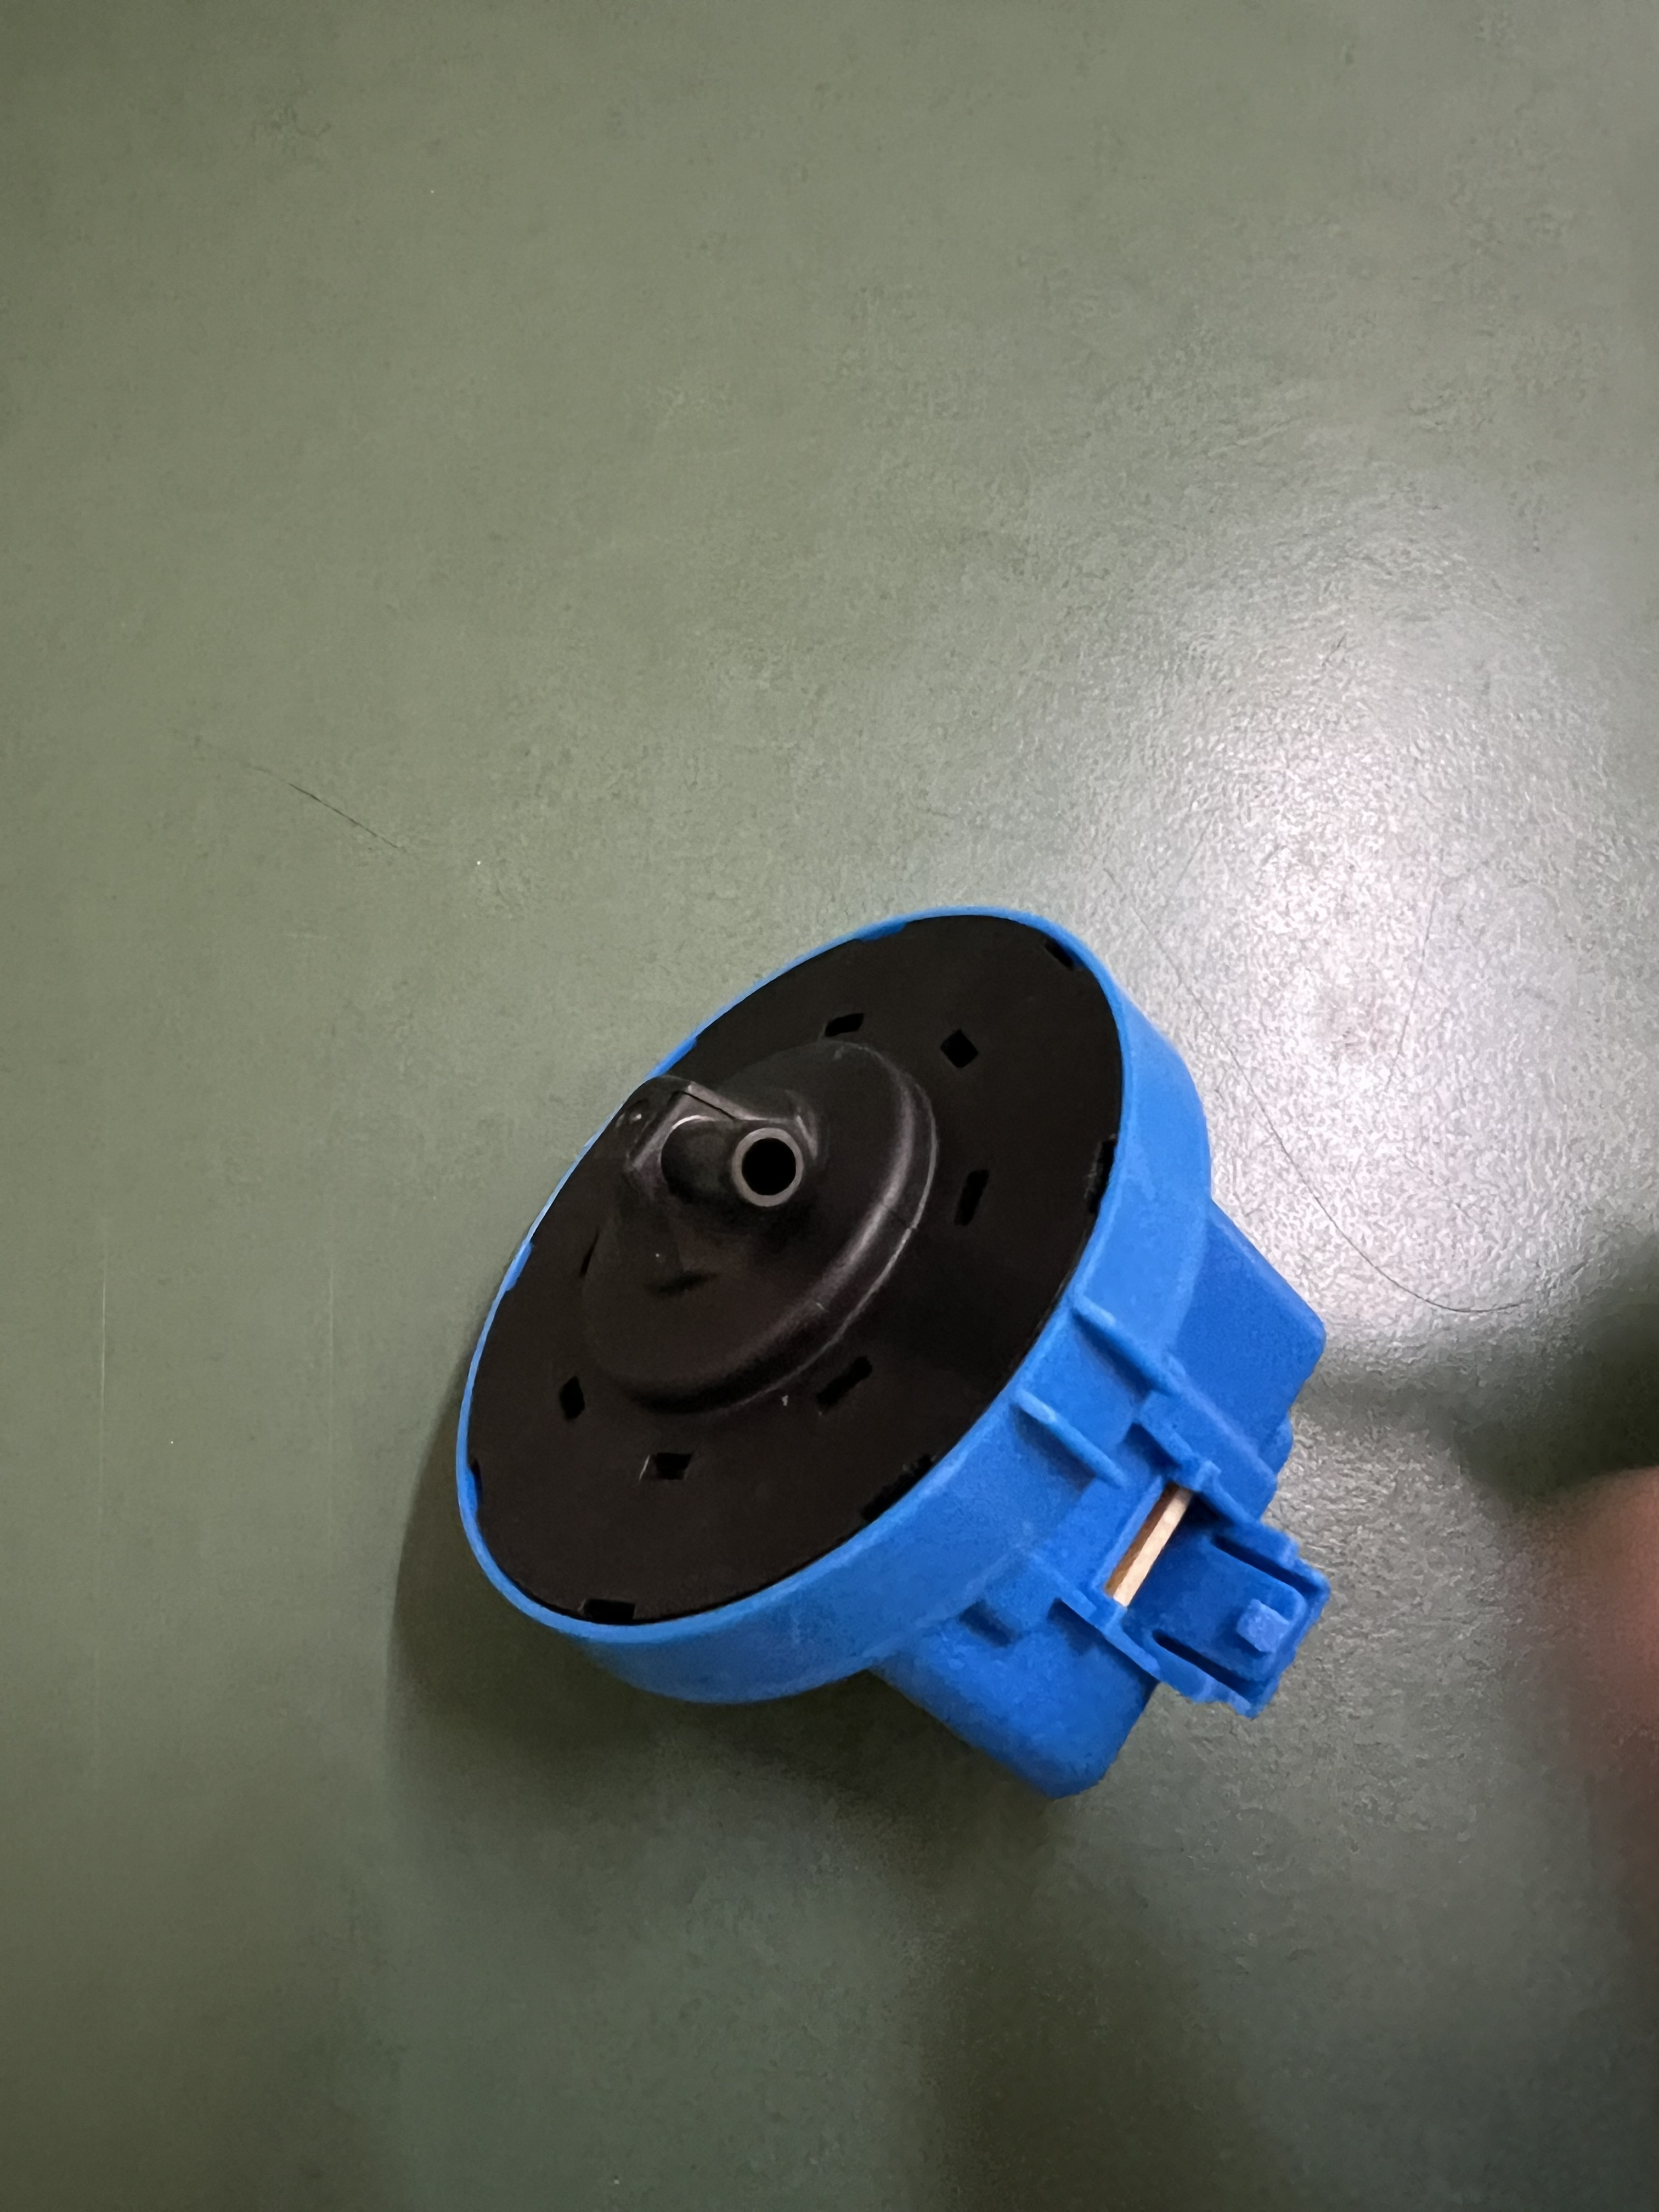voltas_beko_pressure_switch: (396, 897, 1380, 1773)
